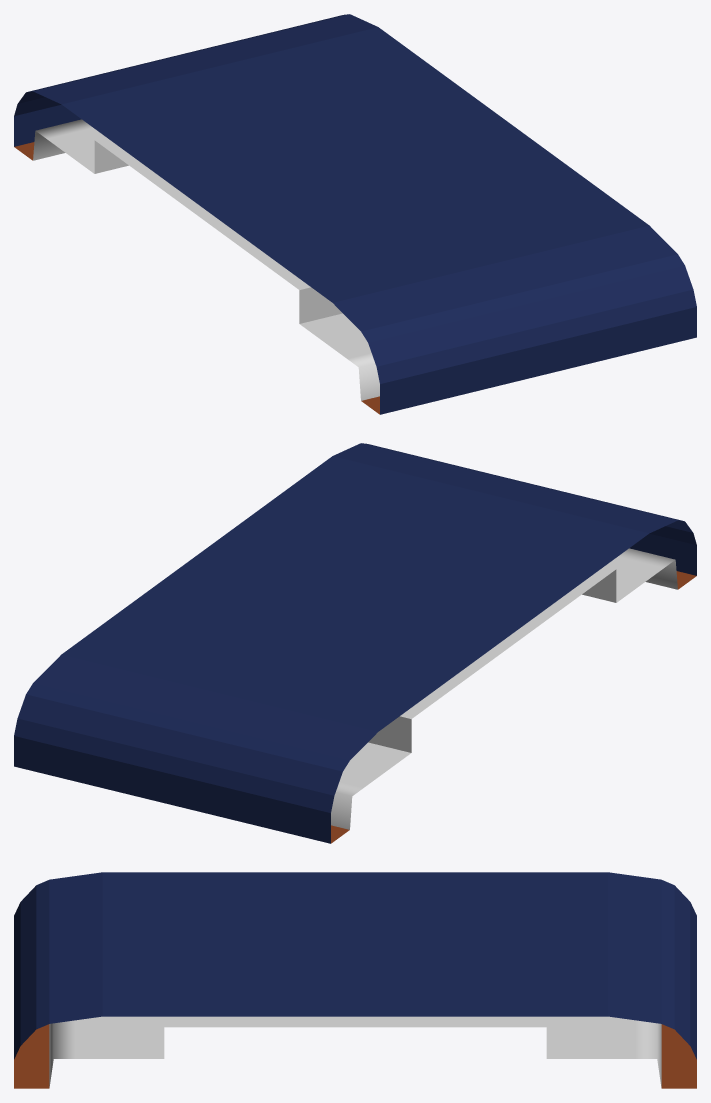
File: cp_ceiling_hollow_1.fbx
3 views of the same model, one above another, from view 1: azimuth 30°, elevation 25°; view 2: azimuth 150°, elevation 25°; view 3: azimuth 270°, elevation 25° (orthographic). The views are drawn at different scales.
Visible parts, largest first — view 1: ceiling_hollow_1; view 2: ceiling_hollow_1; view 3: ceiling_hollow_1.
Part boxes in pixels (x1,y1,x2,y2): ceiling_hollow_1: (14,14,696,414); ceiling_hollow_1: (14,443,696,843); ceiling_hollow_1: (14,872,696,1088).
Bounding box in the file's own units: 200 × 46.59 × 400.
1 material, 1 textured.
